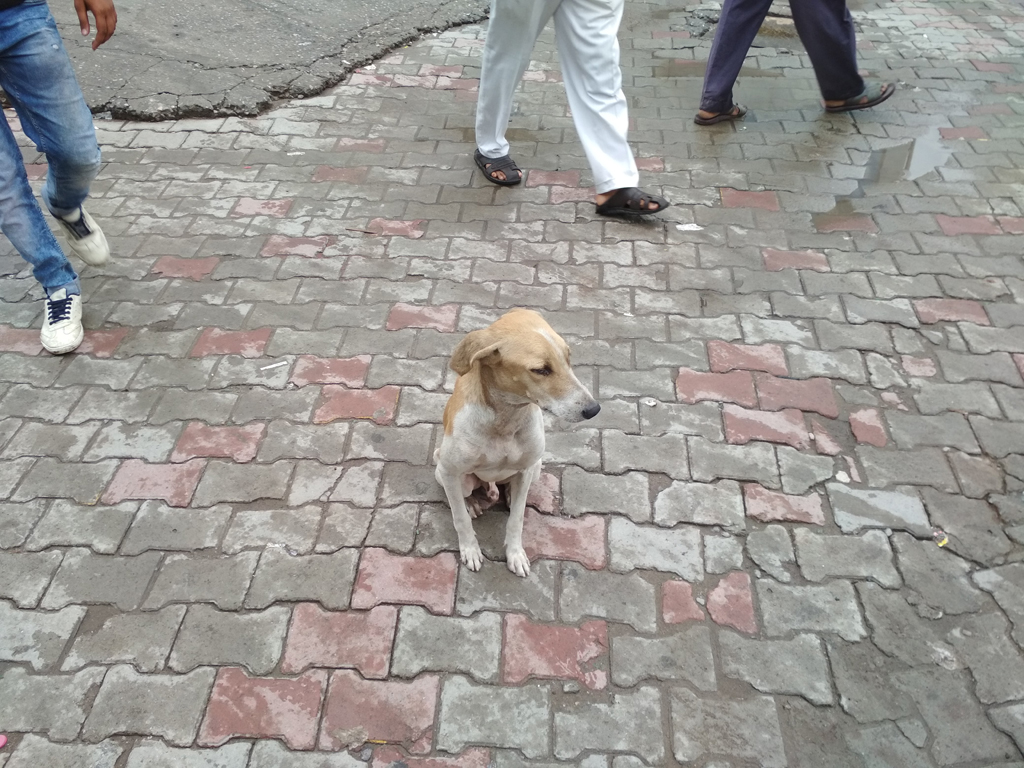dog: (433, 307, 603, 575)
